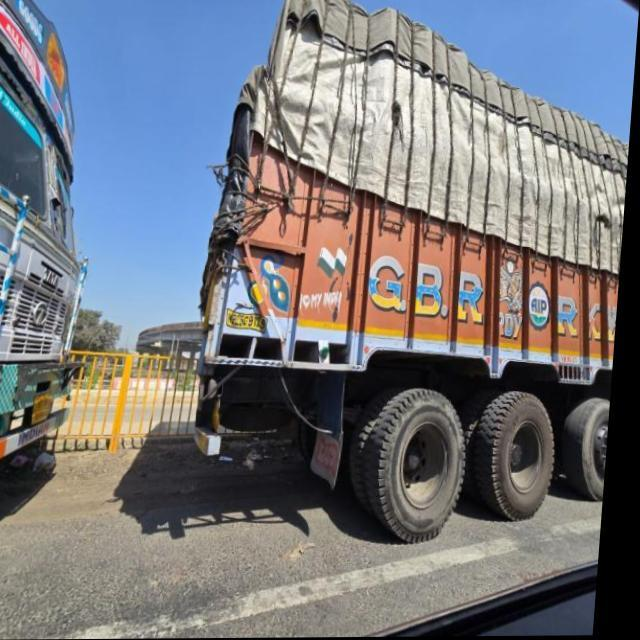covered: (204, 0, 640, 568)
